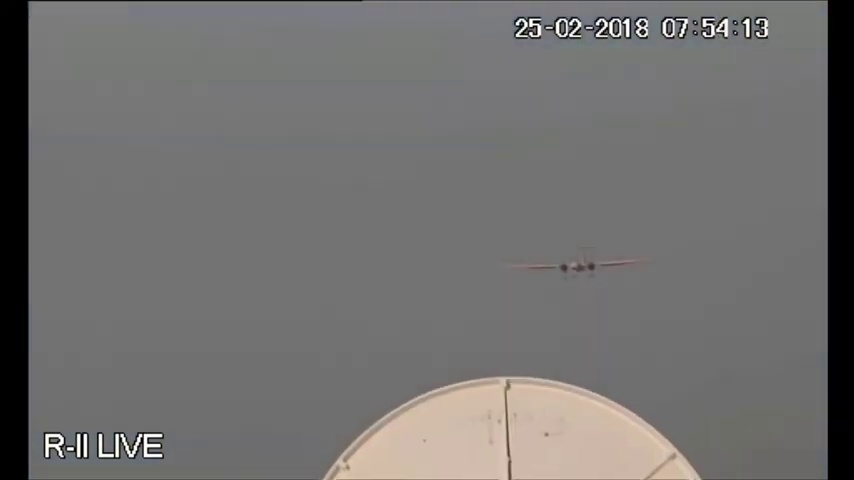military drone: (508, 245, 651, 272)
